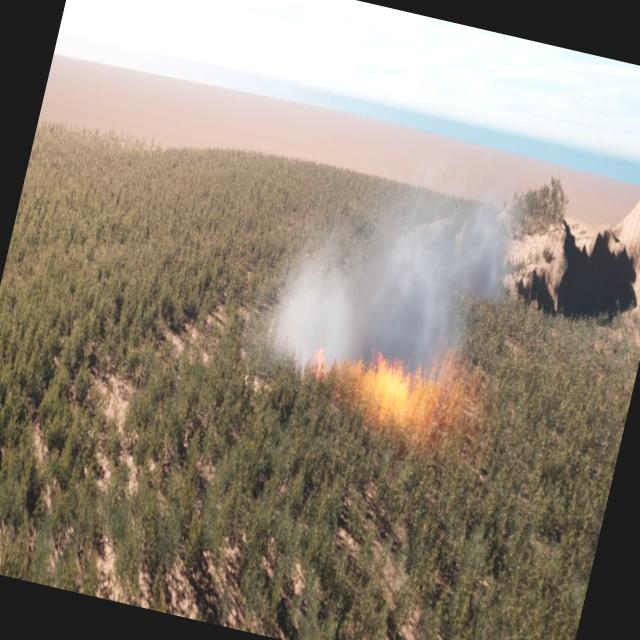fire: (299, 333, 475, 447)
smoke: (251, 128, 525, 414)
